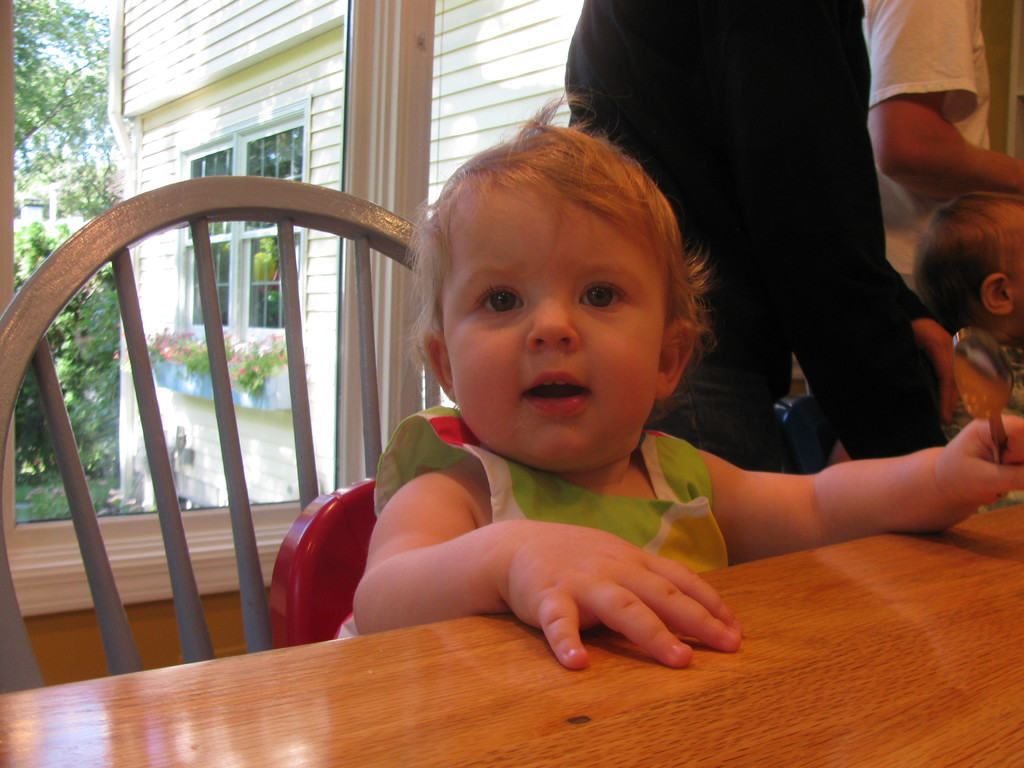Human-face: (440, 180, 668, 467)
